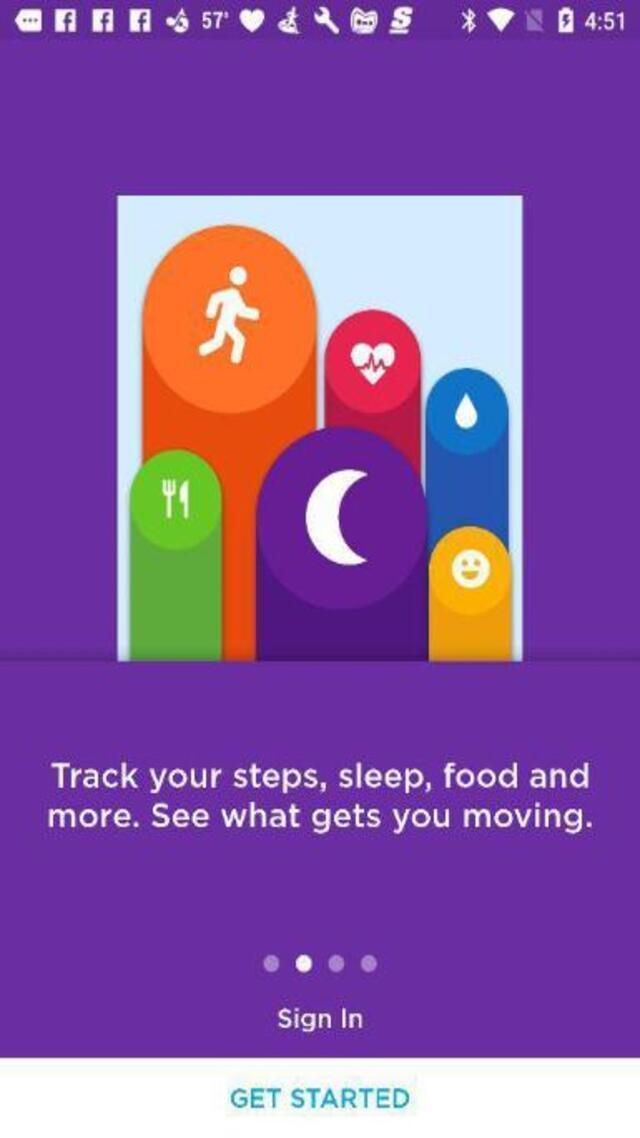Icon: (116, 194, 522, 660)
Text: (40, 800, 596, 840), (44, 758, 598, 796), (225, 1079, 416, 1114), (276, 1007, 362, 1032)
TextButton: (0, 1058, 638, 1136)
